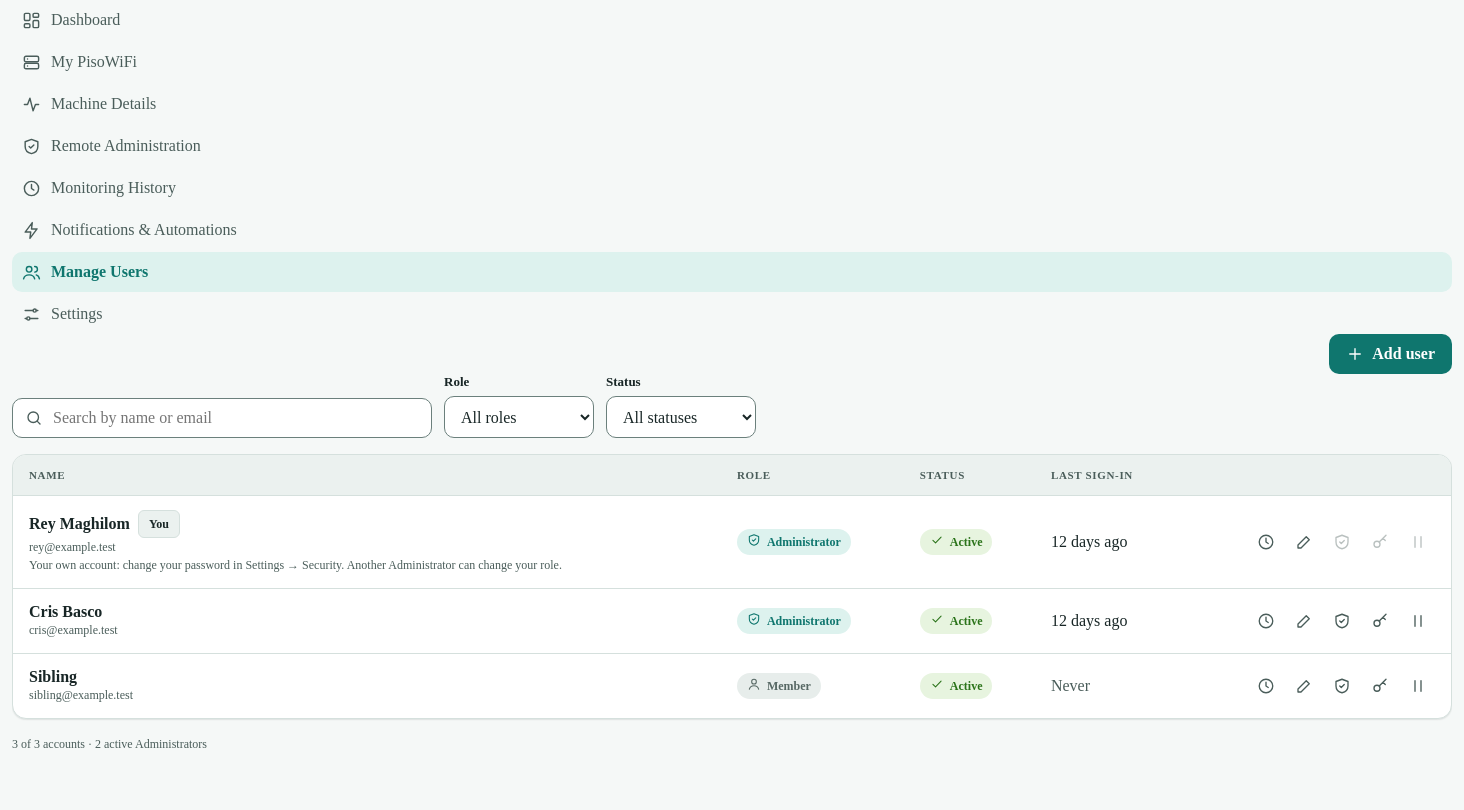
Test: Manage Users RBAC-2 UI › shows Administrator controls, account status and last sign-in, and filters the existing list
The width and height of the screenshot is (1464, 810).
Expected: the table named "Accounts" is shown, [13,455,1451,718]
Expected: the link "Manage Users" is shown, [12,252,1452,292]
Type "sibling" into the field named "Search accounts".
click(235, 418); type("sibling")  # box [51,408,419,428]
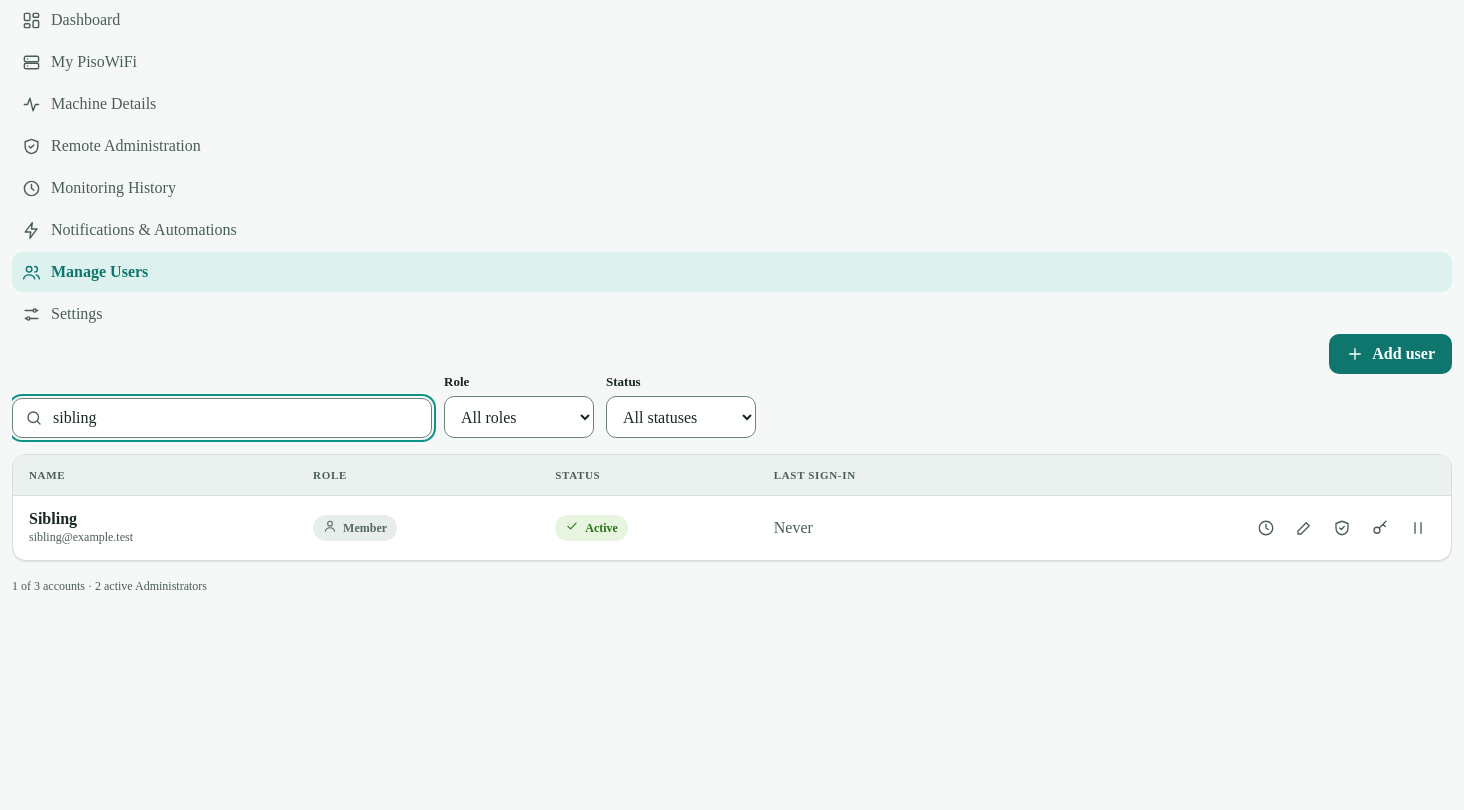
Expected: the text "1 of 3 accounts" is shown, [12,579,207,593]
Select "Administrator" in the dropdown labelled "Role" at (519, 417), box [444,396,594,438]
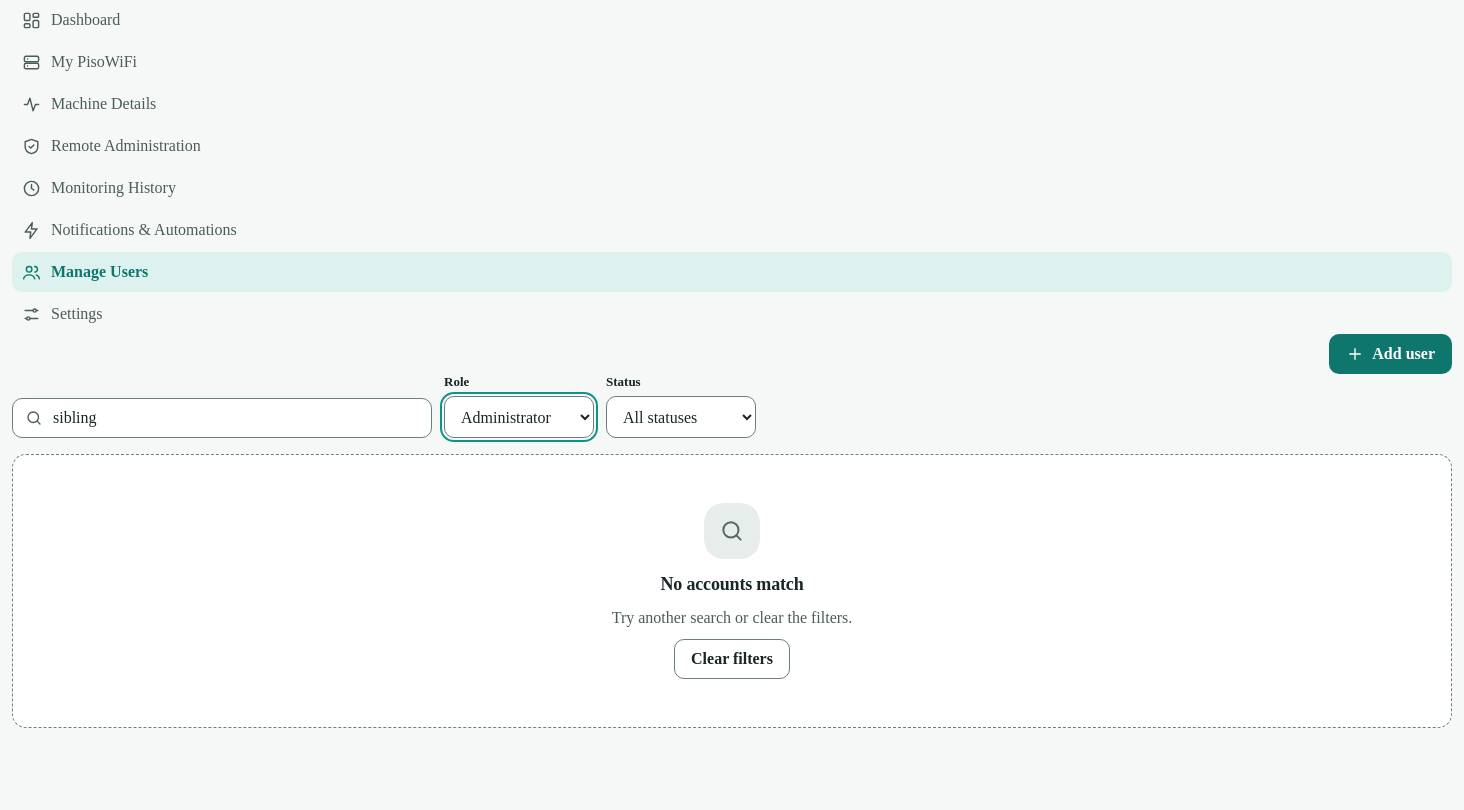
Expected: the heading "No accounts match" is shown, [660,571,803,597]
